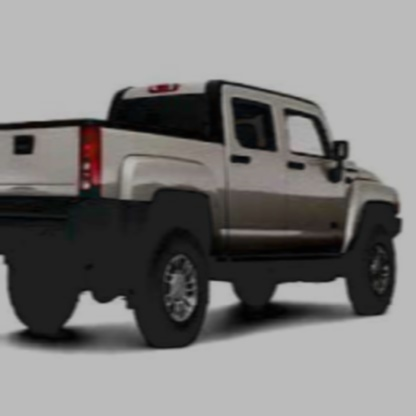Vehicle: (1, 81, 404, 351)
